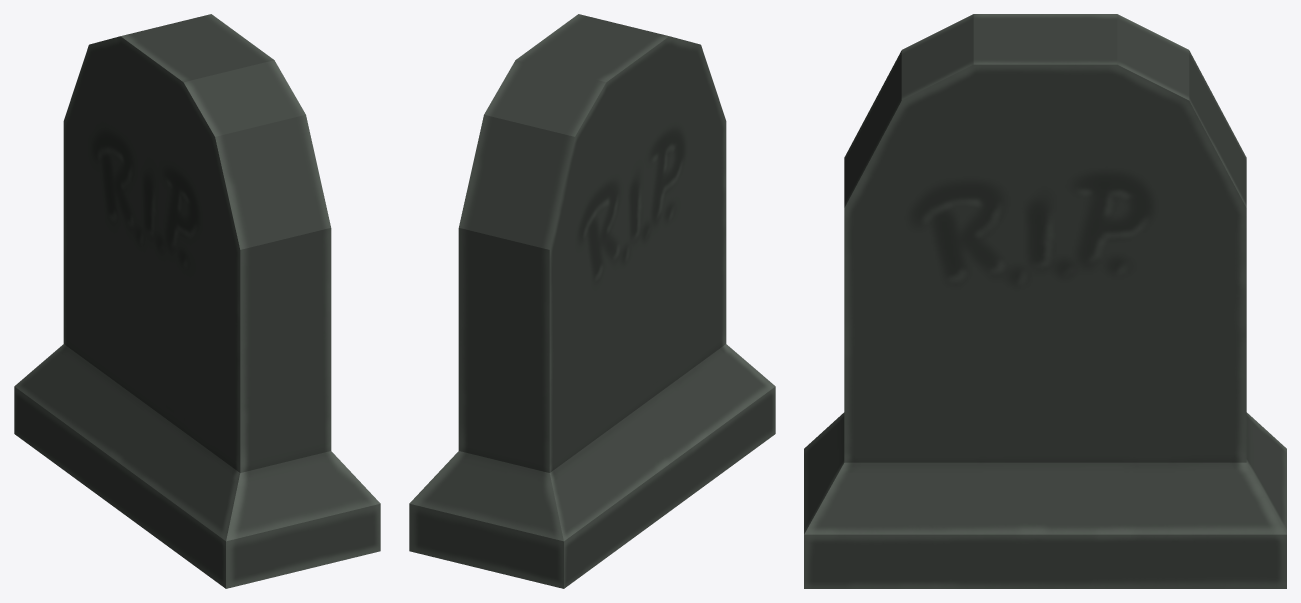
File: tombstone.obj
3 renders of one model, left to right at view 1: azimuth 30°, elevation 25°; view 2: azimuth 150°, elevation 25°; view 3: azimuth 270°, elevation 25°, orthographic. The views are drawn at different scales.
Visible parts, largest first — view 1: Cube; view 2: Cube; view 3: Cube.
Part boxes in pixels (x1,y1,x2,y2): Cube: (14, 14, 380, 588); Cube: (409, 14, 775, 588); Cube: (804, 14, 1286, 588).
Size of the model in its own units: 0.34 by 0.9338 by 0.8064.
Materials: 1 (1 with a texture image).
